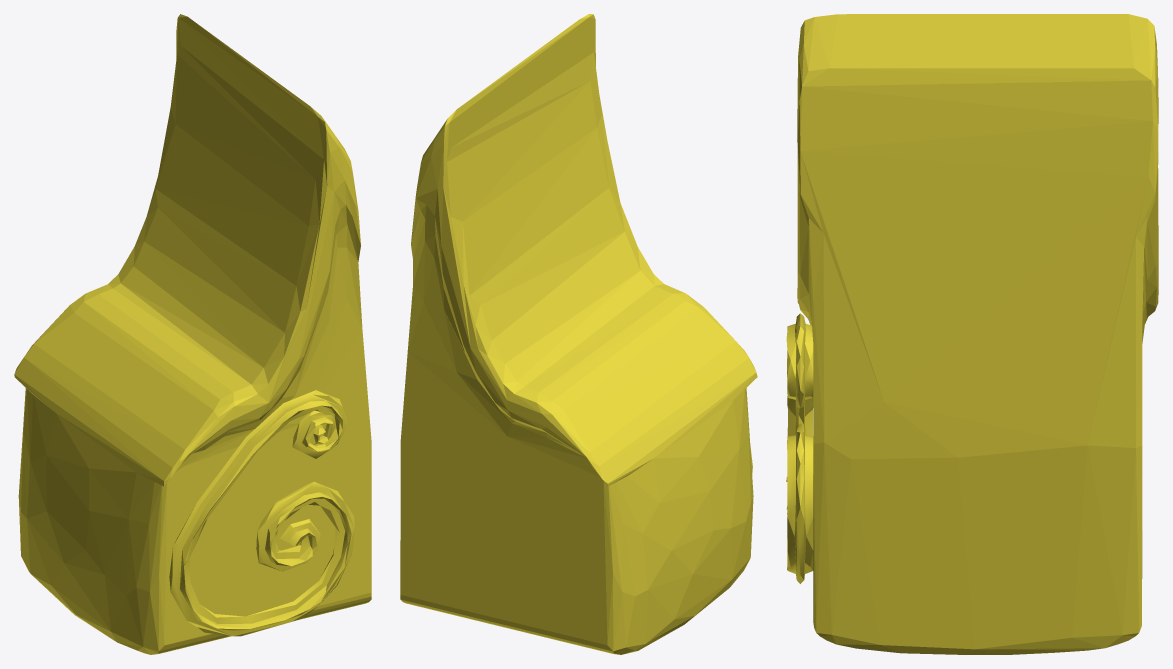
The model's file is ParedeEntreMeioeLateral.Low.fbx.
3 views of the same model, side by side, from view 1: azimuth 30°, elevation 25°; view 2: azimuth 150°, elevation 25°; view 3: azimuth 270°, elevation 25° (orthographic). The views are drawn at different scales.
Visible parts, largest first — view 1: ParedeEntreMeioeLateral.Low; view 2: ParedeEntreMeioeLateral.Low; view 3: ParedeEntreMeioeLateral.Low.
Part boxes in pixels (<box>): ParedeEntreMeioeLateral.Low: <box>14,14,371,654</box>; ParedeEntreMeioeLateral.Low: <box>400,14,757,654</box>; ParedeEntreMeioeLateral.Low: <box>786,14,1158,654</box>.
Bounding box in the file's own units: 72.66 × 152 × 84.15.
